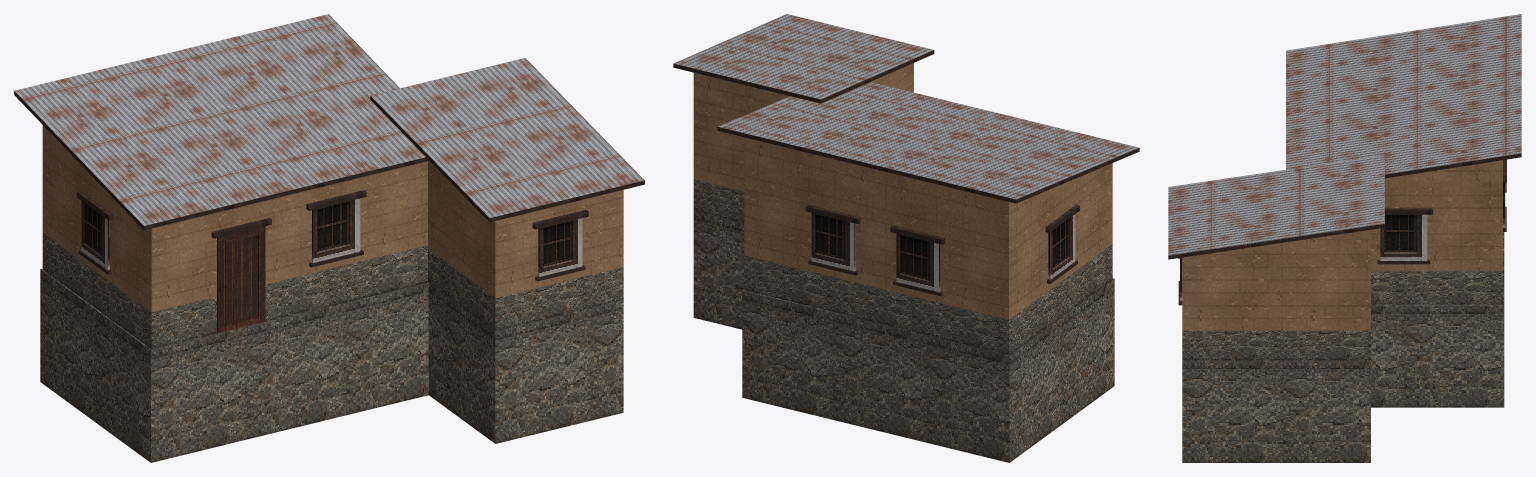
File: 09_quincha_doble_calamina.glb
The picture shows the model from 3 angles, left to right: view 1: azimuth 30°, elevation 25°; view 2: azimuth 150°, elevation 25°; view 3: azimuth 270°, elevation 25°; orthographic projection. The views are drawn at different scales.
Parts seen in each view (by area): view 1: 09_quincha_doble_calamina; view 2: 09_quincha_doble_calamina; view 3: 09_quincha_doble_calamina.
Part boxes in pixels (x1,y1,x2,y2): 09_quincha_doble_calamina: [14, 14, 644, 462]; 09_quincha_doble_calamina: [673, 14, 1139, 462]; 09_quincha_doble_calamina: [1168, 14, 1521, 462].
Size of the model in its own units: 9.7 by 6.13 by 7.5.
6 materials, 6 textured.
